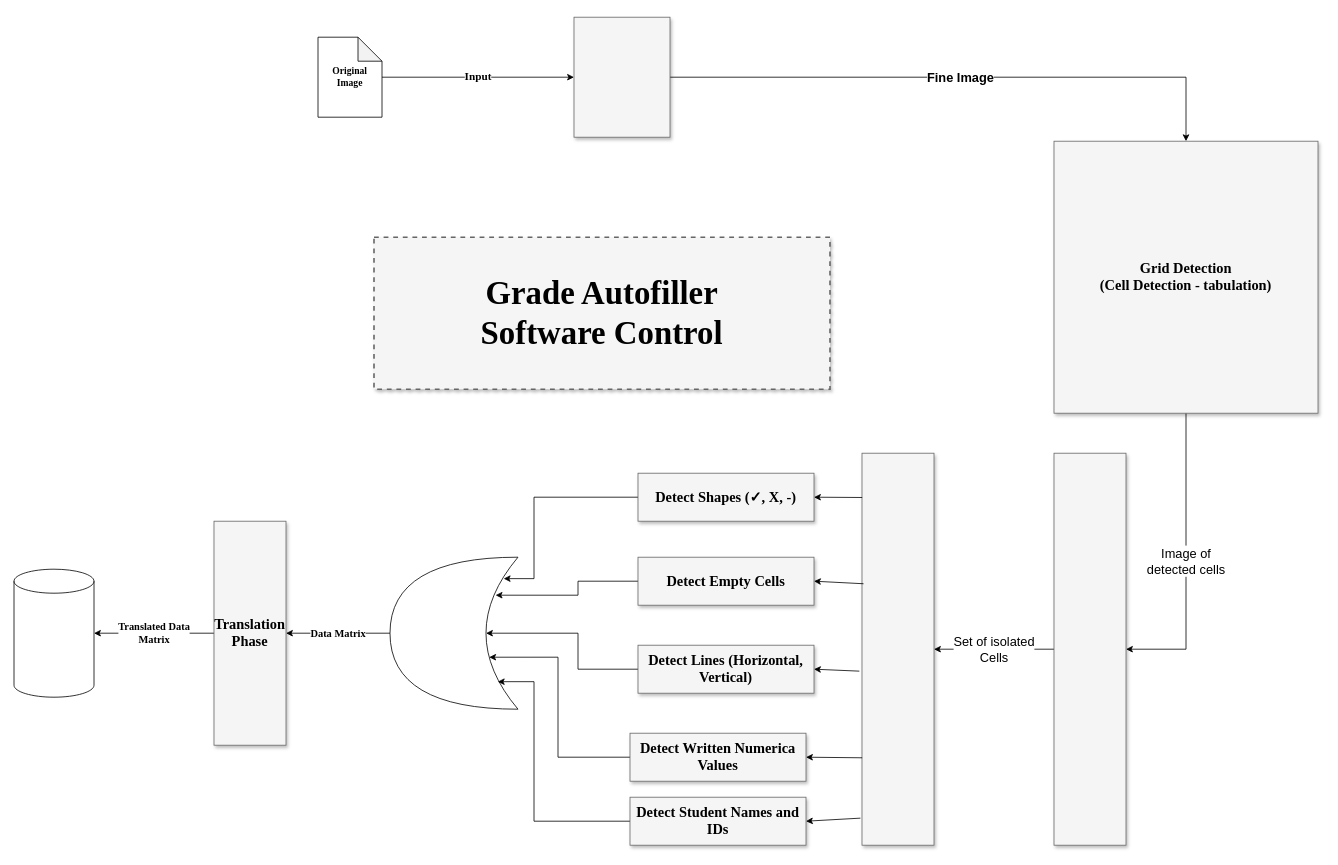
This 1338x865 diagram has some shape labels left out. The centre of each missing label's shape, as x and y in pixels:
"Cell Cropping" goes at point 1090,650.
"Data Detection Phase" goes at point 898,650.
"Data Sheet" goes at point 53,632.
"Enahancement (Skewing Detection and Solution)" goes at point 622,78.
"Forming Matrix and Filling the data" goes at point 453,632.
